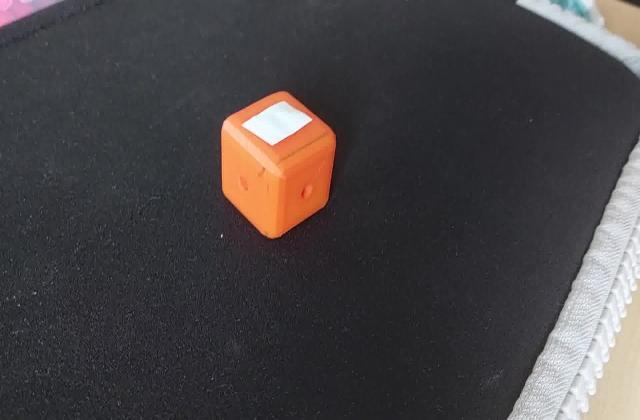cube: (216, 83, 341, 242)
white: (240, 109, 302, 150)
